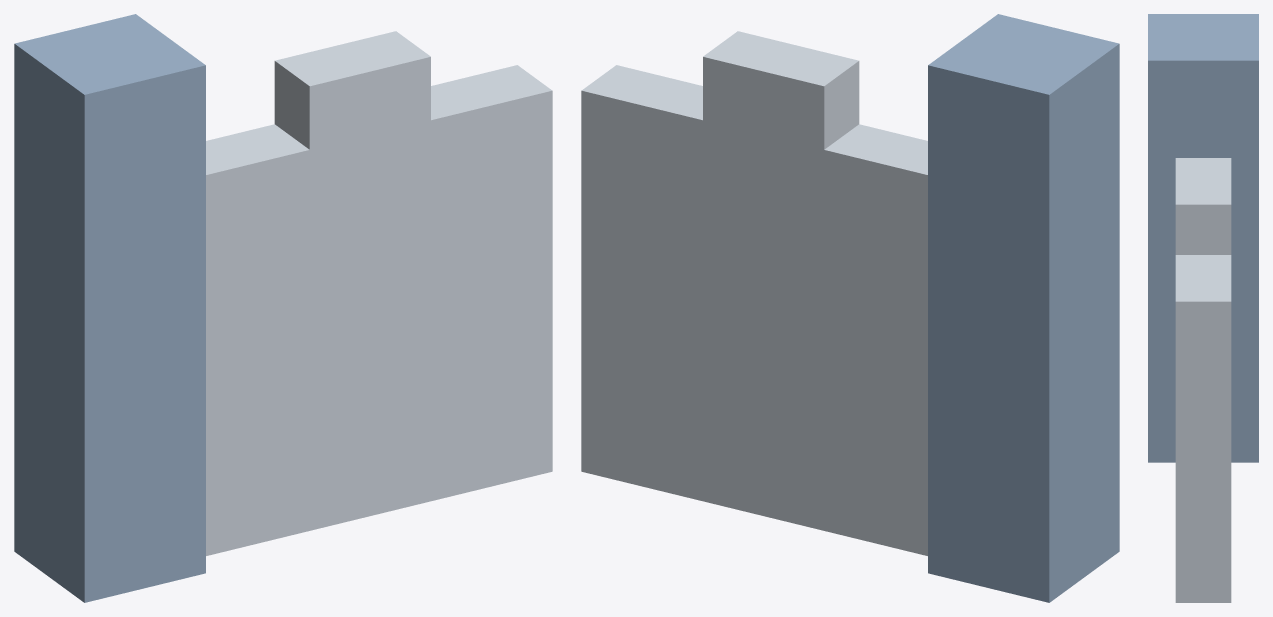
The model's file is stone-fence.glb.
3 renders of one model, left to right at view 1: azimuth 30°, elevation 25°; view 2: azimuth 150°, elevation 25°; view 3: azimuth 270°, elevation 25°, orthographic. The views are drawn at different scales.
Parts seen in each view (by area): view 1: generated(Clone); view 2: generated(Clone); view 3: generated(Clone).
Boxes of the visible parts, left/top/right/bottom form: generated(Clone): left=14, top=14, right=552, bottom=602; generated(Clone): left=581, top=14, right=1119, bottom=602; generated(Clone): left=1148, top=14, right=1258, bottom=602.
Size of the model in its own units: 8 by 8 by 2.
Materials: 1 (1 with a texture image).
